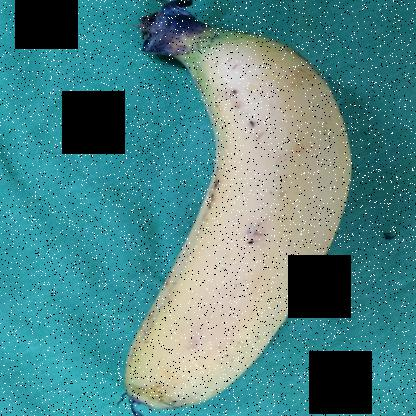freshripe: (57, 25, 364, 415)
